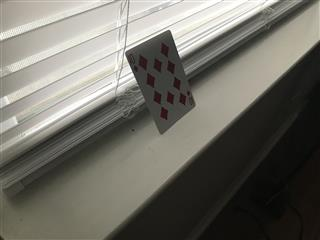TenOfDiamonds: (124, 29, 197, 135)
